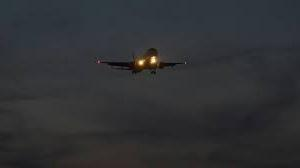Plane: (88, 40, 194, 84)
